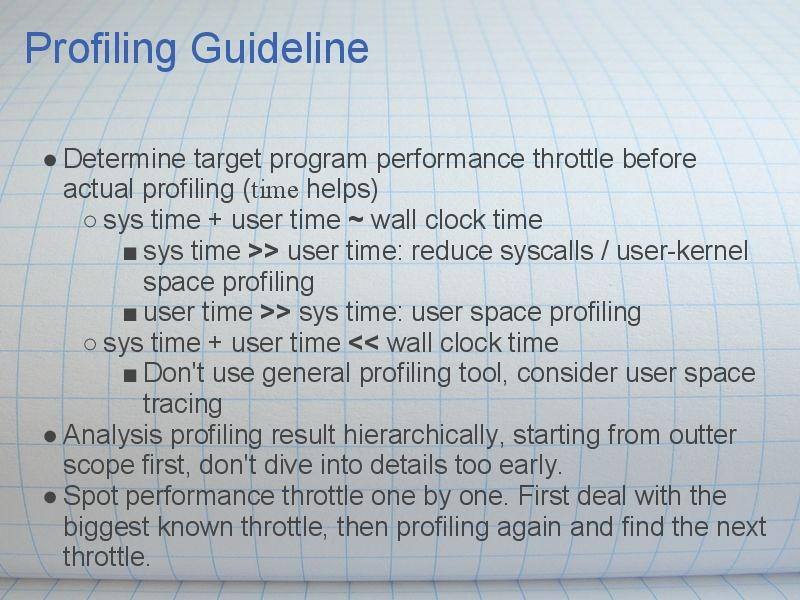paragraph: (23, 130, 786, 577)
title: (21, 21, 380, 86)
